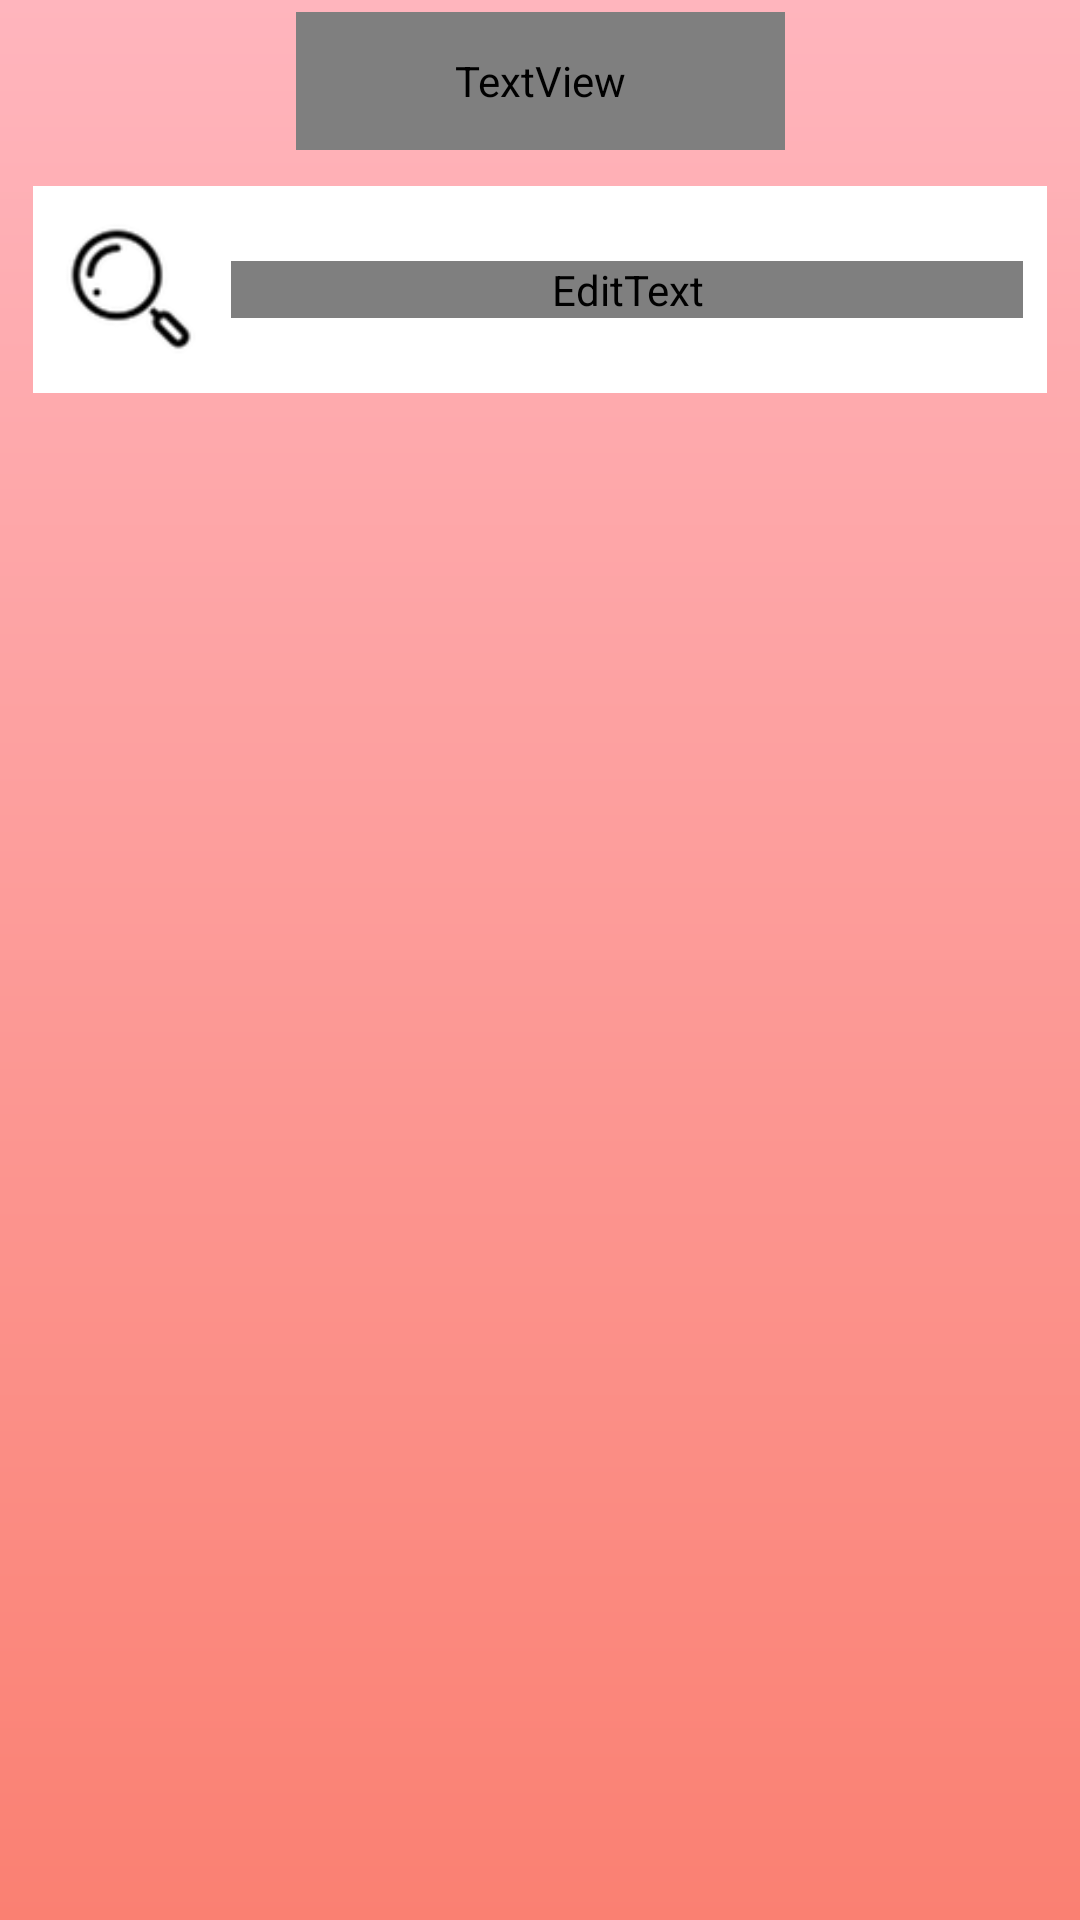

Where icons sit on this 1080 x 1920 app screen, as (x1, y1, x2, y2):
search: (71, 229, 191, 349)
